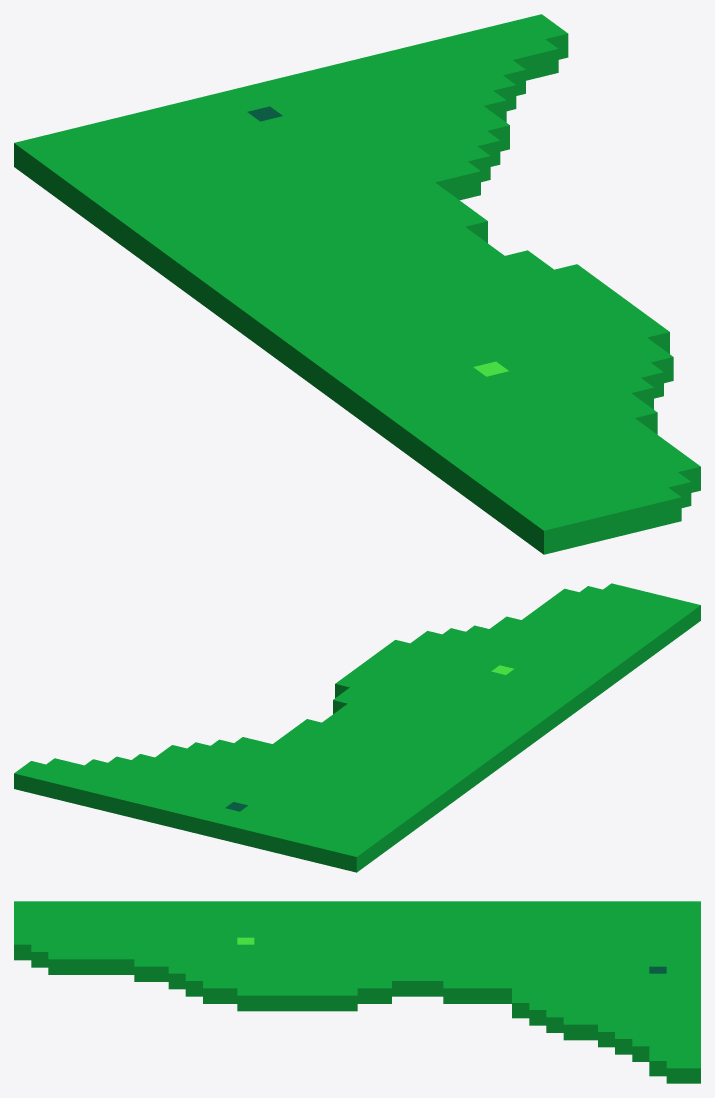
The model's file is plane_corner1.obj.
3 views of the same model, one above another, from view 1: azimuth 30°, elevation 25°; view 2: azimuth 150°, elevation 25°; view 3: azimuth 270°, elevation 25° (orthographic). The views are drawn at different scales.
Bounding box in the file's own units: 2.3 × 0.1 × 4.
1 material, 1 textured.
